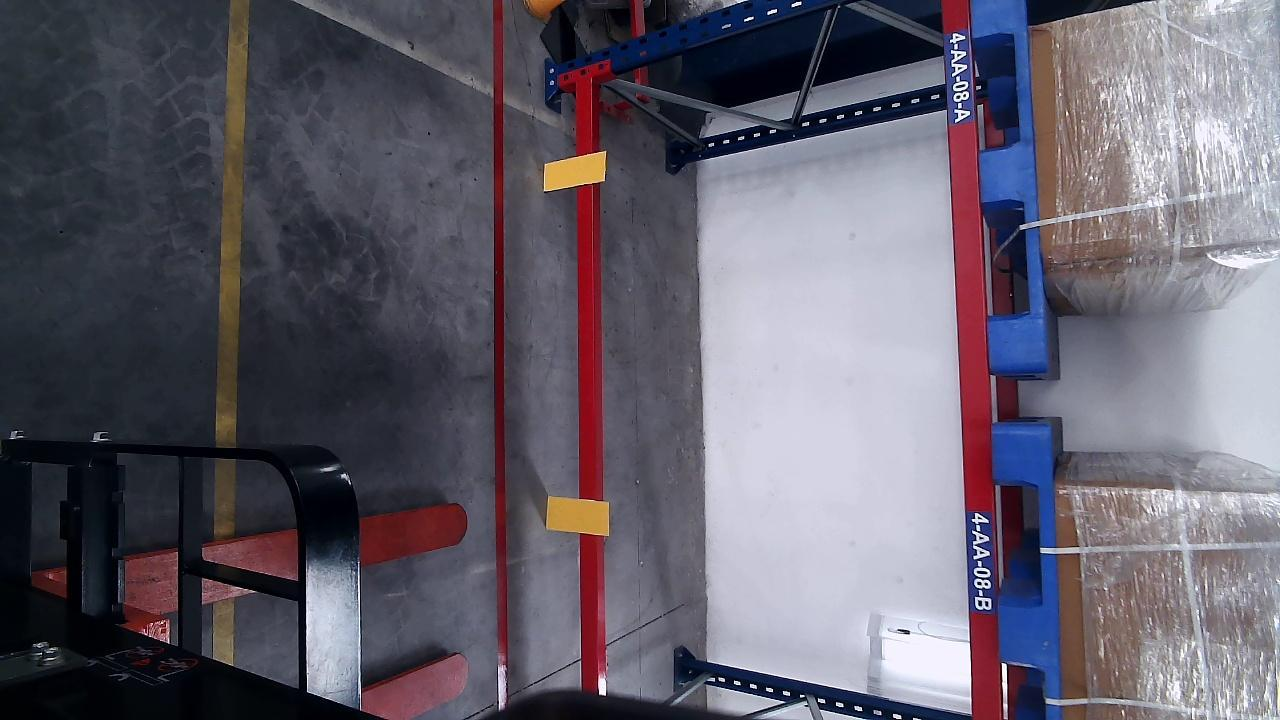h_rack: (941, 0, 998, 720), (575, 78, 598, 689)
orange_strip: (546, 493, 610, 537), (544, 153, 605, 191)
red_line: (491, 2, 509, 708)
small_pallet: (992, 427, 1063, 720)
yellow_line: (215, 2, 249, 441)
